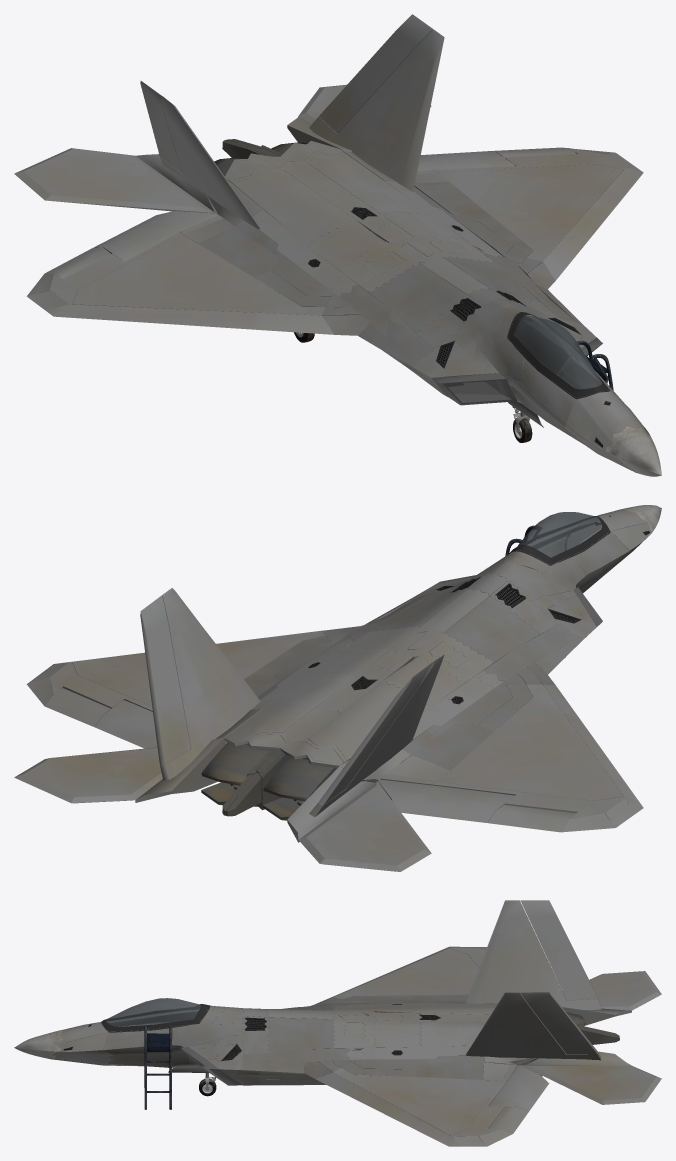
The picture shows the model from 3 angles, top to bottom: view 1: azimuth 30°, elevation 25°; view 2: azimuth 150°, elevation 25°; view 3: azimuth 270°, elevation 25°; orthographic projection. The views are drawn at different scales.
Parts seen in each view (by area): view 1: Object_93, Object_159, Object_111, Object_157, Cube.044_79, Cube.071_36, Object_101, Object_41, Object_163, Cube.007_42, Object_99, Object_153 (+10 smaller); view 2: Object_93, Object_159, Object_111, Object_157, Cube.044_79, Cube.043_66, Cube.071_36, Object_101, Cube.007_42, Object_119, Object_107, Object_41 (+12 smaller); view 3: Object_93, Object_159, Object_111, Object_157, Cube.043_66, Cube.072_34, Cube.044_79, Cube.071_36, Object_163, Object_41, Cube.073_38, Object_119 (+10 smaller).
Part boxes in pixels (x1=…): Object_93: x1=27, y1=141, x2=643, y2=372; Object_159: x1=198, y1=182, x2=595, y2=452; Object_111: x1=160, y1=30, x2=444, y2=228; Object_157: x1=413, y1=288, x2=623, y2=427; Cube.044_79: x1=14, y1=148, x2=214, y2=213; Cube.071_36: x1=319, y1=14, x2=433, y2=133; Object_101: x1=27, y1=148, x2=624, y2=304; Object_41: x1=514, y1=315, x2=601, y2=388; Object_163: x1=565, y1=391, x2=651, y2=470; Cube.007_42: x1=95, y1=211, x2=217, y2=261; Object_99: x1=180, y1=149, x2=449, y2=243; Object_153: x1=445, y1=320, x2=569, y2=394; Object_93: x1=27, y1=589, x2=643, y2=832; Object_159: x1=244, y1=555, x2=614, y2=770; Object_111: x1=160, y1=588, x2=444, y2=816; Object_157: x1=414, y1=524, x2=628, y2=638; Cube.044_79: x1=299, y1=781, x2=431, y2=871; Cube.043_66: x1=14, y1=747, x2=162, y2=803; Cube.071_36: x1=140, y1=596, x2=190, y2=765; Object_101: x1=28, y1=662, x2=624, y2=827; Cube.007_42: x1=378, y1=779, x2=514, y2=822; Object_119: x1=135, y1=737, x2=373, y2=842; Object_107: x1=201, y1=742, x2=336, y2=820; Object_41: x1=517, y1=512, x2=601, y2=557; Object_93: x1=267, y1=946, x2=542, y2=1146; Object_159: x1=104, y1=994, x2=483, y2=1085; Object_111: x1=466, y1=900, x2=601, y2=1060; Object_157: x1=103, y1=1005, x2=269, y2=1074; Cube.043_66: x1=522, y1=1065, x2=661, y2=1104; Cube.072_34: x1=520, y1=900, x2=598, y2=1000; Cube.044_79: x1=589, y1=971, x2=661, y2=1010; Cube.071_36: x1=520, y1=992, x2=598, y2=1054; Object_163: x1=52, y1=1021, x2=112, y2=1065; Object_41: x1=106, y1=998, x2=201, y2=1026; Cube.073_38: x1=489, y1=1065, x2=549, y2=1110; Object_119: x1=524, y1=1007, x2=631, y2=1072.
Bounding box in the file's own units: 2.02 × 0.7002 × 2.76.
25 materials, 11 textured.
